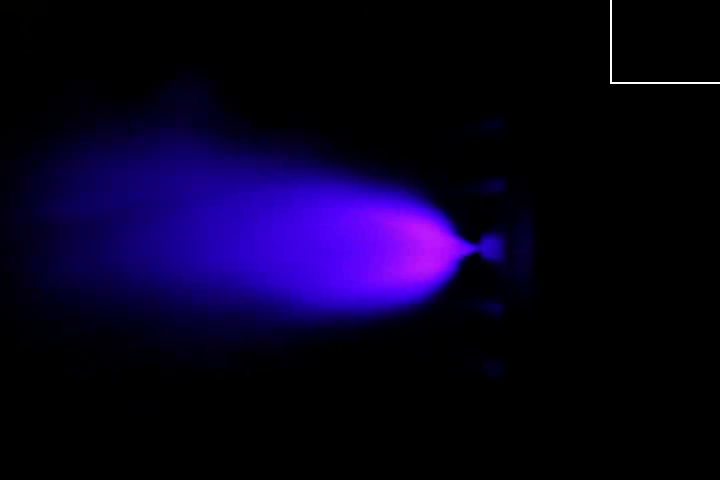burner cap: (480, 232, 507, 261)
unstable: (360, 193, 479, 302)
